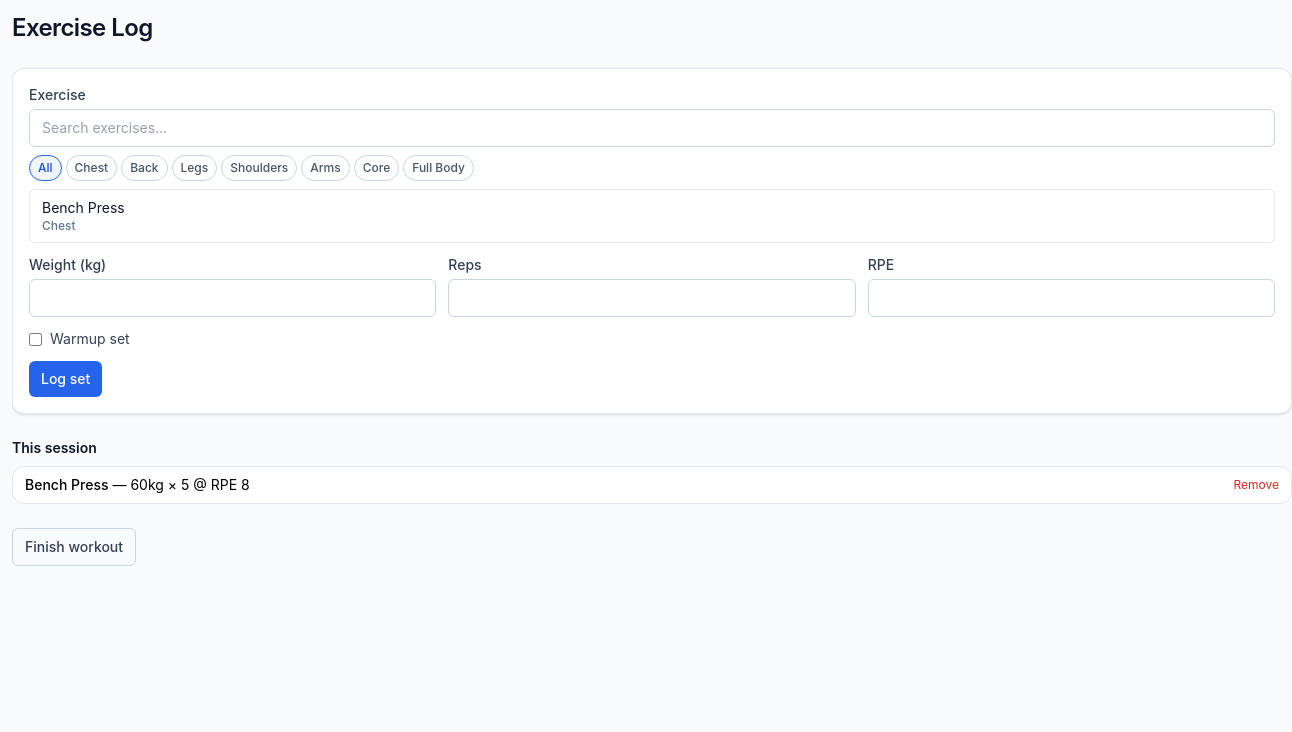
ExerciseLogView › shows a suggested weight for a matching exercise and can apply it
Check: the text "Suggested:" is not shown
Step 1. Click the button "Bench Press Chest" → (83, 208), box [30,190,1274,242]
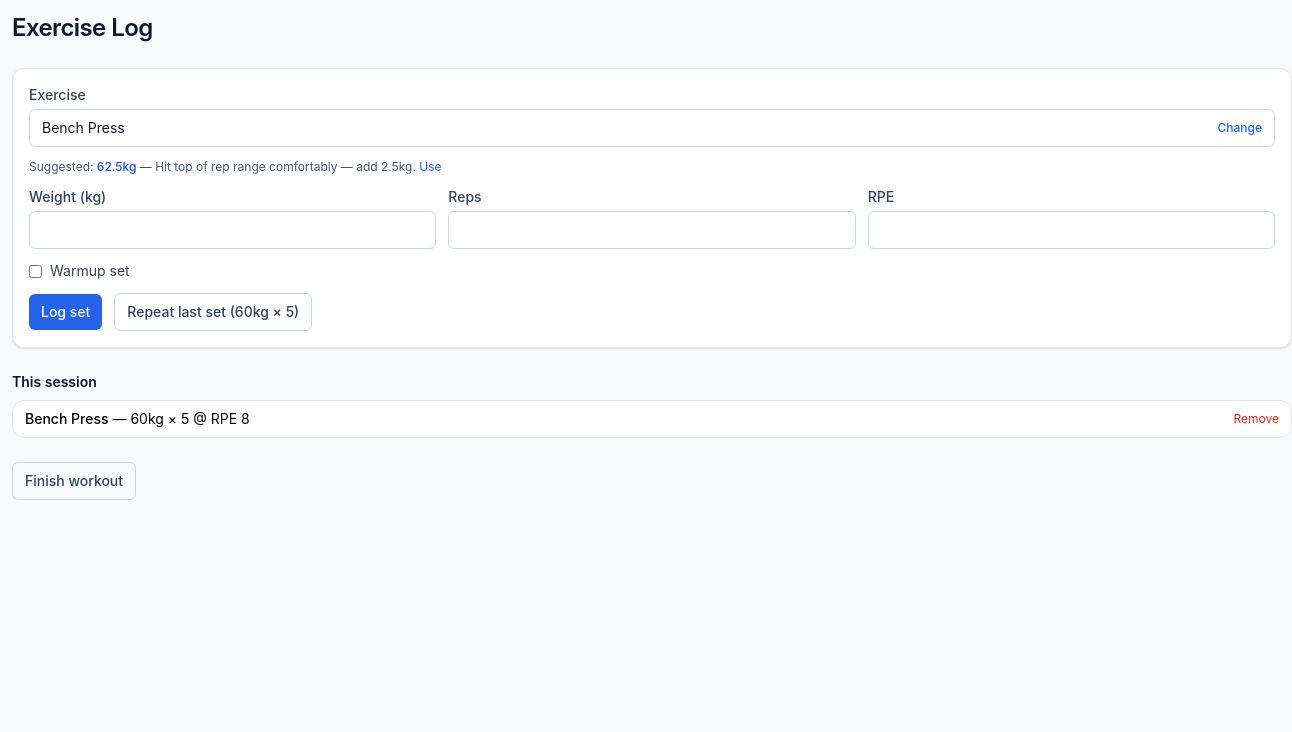
Check: the text "Suggested:" is shown, box [29,159,97,174]
Check: the text "62.5kg" is shown, box [97,159,136,174]
Step 2. Click the button "Use" → (430, 167), box [419,159,442,175]
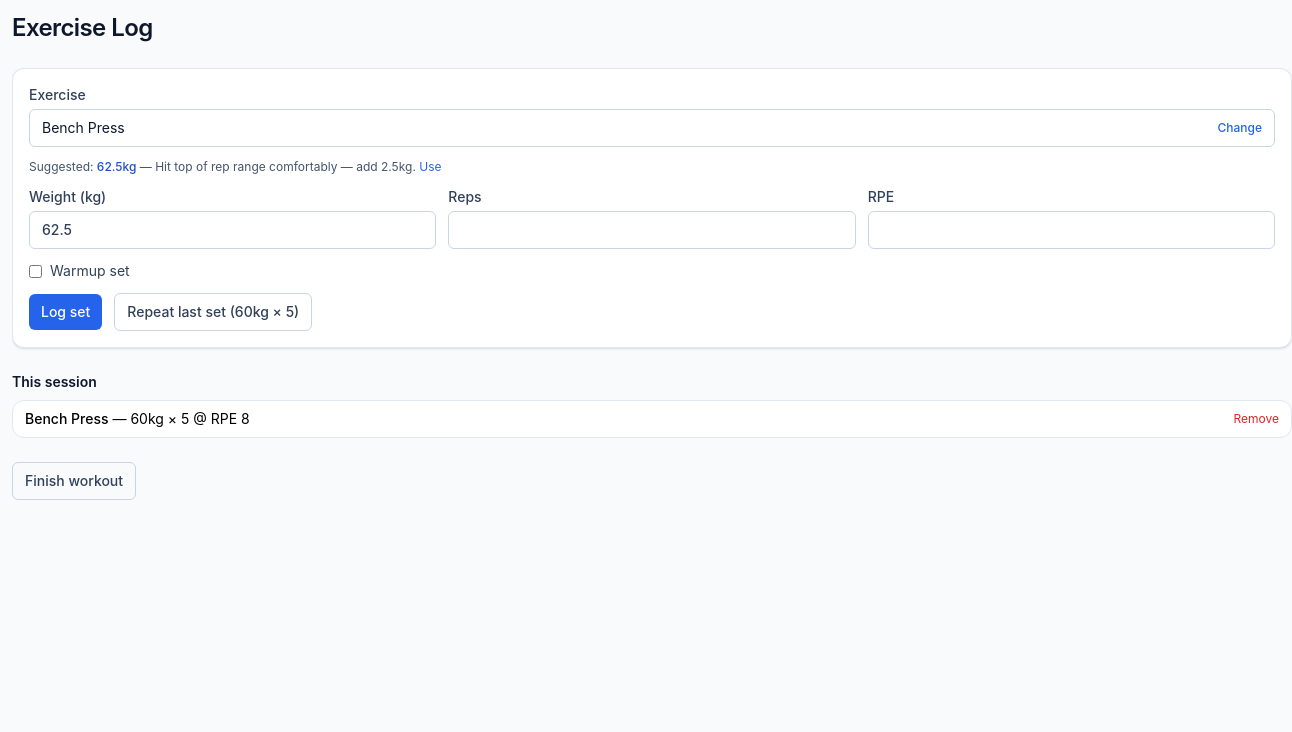
Check: the number field labelled "Weight (kg)" holds "62.5", box [29,211,436,249]
